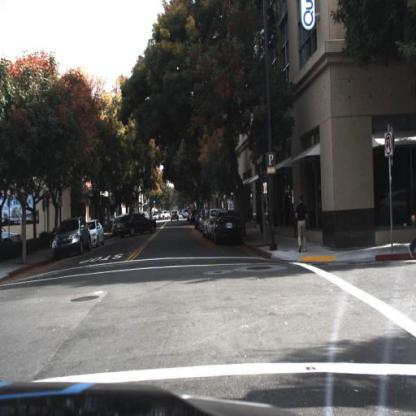car: (53, 213, 93, 260), (211, 208, 247, 248), (111, 211, 158, 239), (1, 223, 22, 252), (86, 219, 107, 248), (205, 211, 217, 242), (170, 208, 181, 223)
pedestrian: (294, 193, 312, 257), (256, 196, 269, 240), (256, 195, 268, 234)
